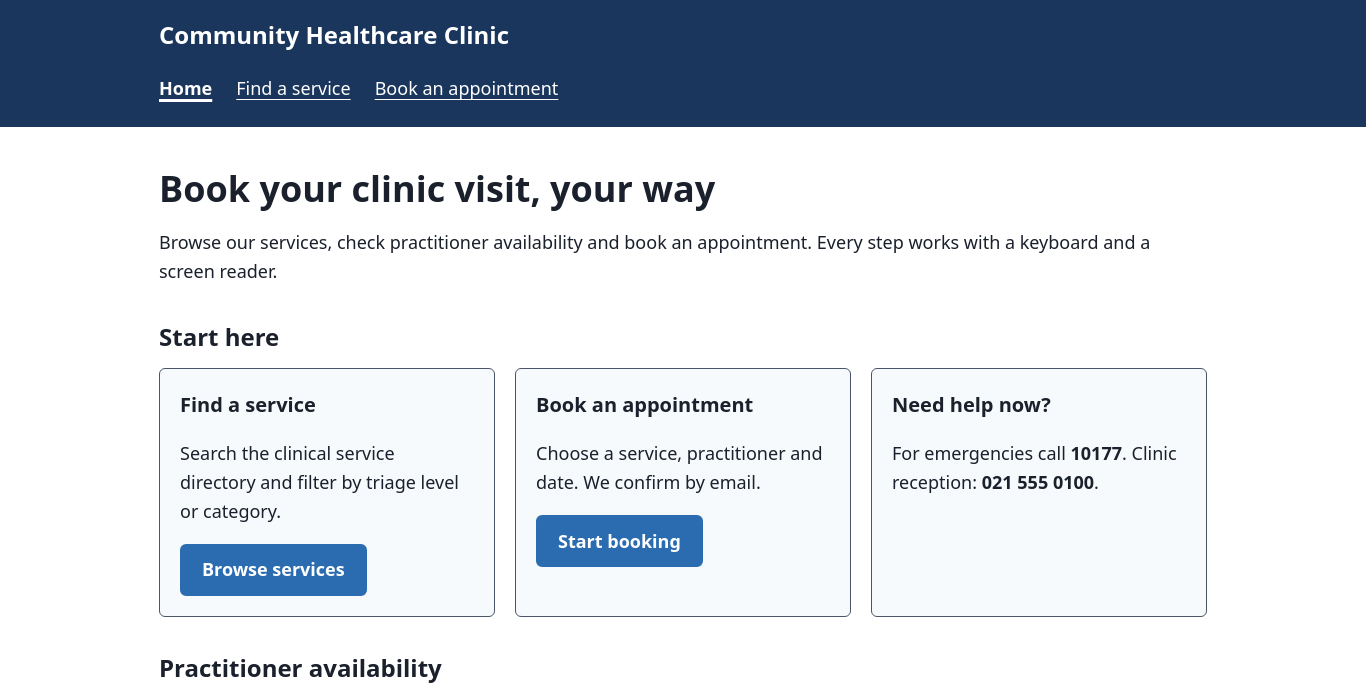
Filterable resource listing with ARIA state › shows a helpful empty state and announces it
Click the button "Find a service" at (293, 89), box [236,66,351,111]
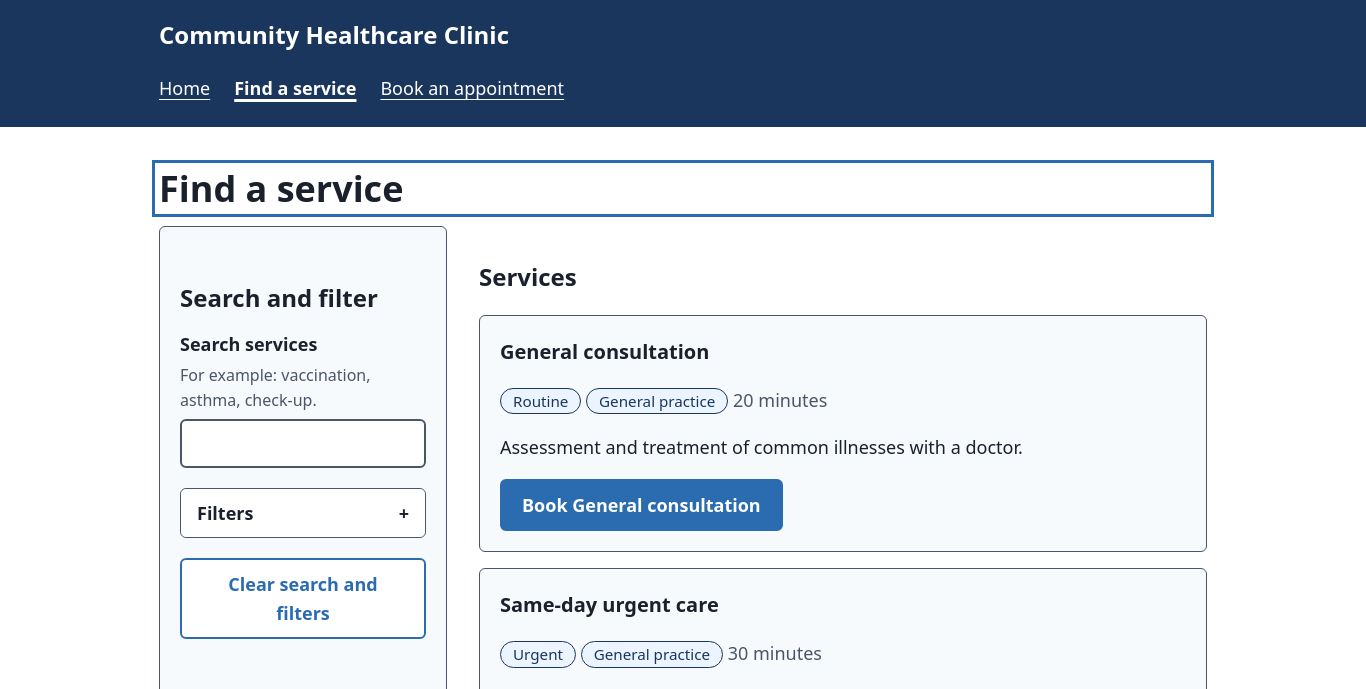
Type "zzzz" into the search field labelled "Search services" at (303, 444), box [180,419,426,468]
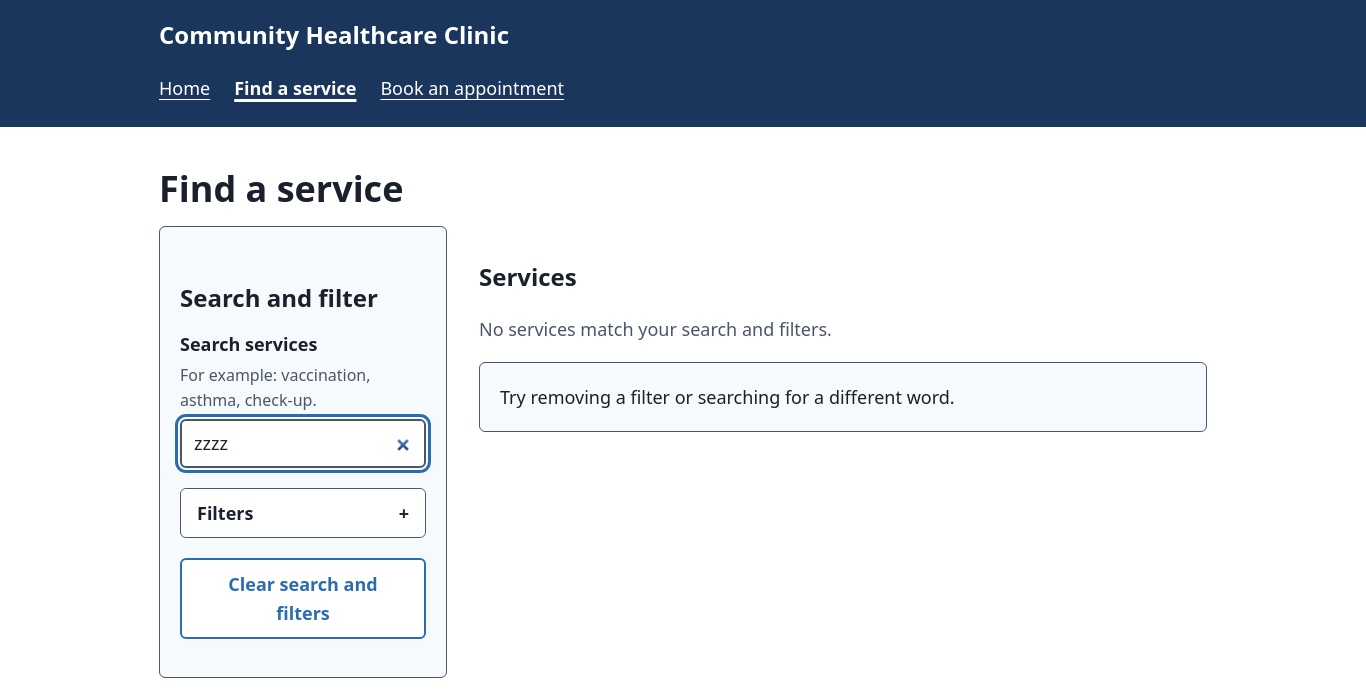
expect the message with test id "results-status" shows "No services match": met, box [479,317,832,341]
expect the text "Try removing a filter or searching for a different word." is shown: met, box [479,362,1207,432]
